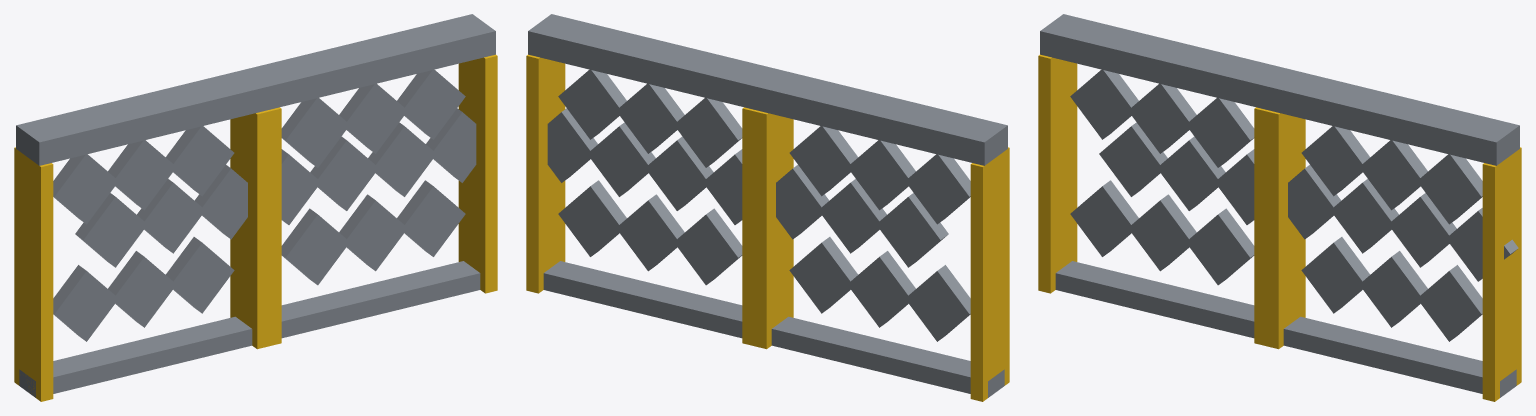
Rendered from env_r7_chain_link_fence.glb.
3 views of the same model, side by side, from view 1: azimuth 30°, elevation 25°; view 2: azimuth 150°, elevation 25°; view 3: azimuth 330°, elevation 25° (orthographic).
Parts seen in each view (by area): view 1: env_r7_chain_link_fence; view 2: env_r7_chain_link_fence; view 3: env_r7_chain_link_fence.
Part boxes in pixels (x1,y1,x2,y2): env_r7_chain_link_fence: [14, 14, 497, 401]; env_r7_chain_link_fence: [526, 14, 1009, 401]; env_r7_chain_link_fence: [1038, 14, 1521, 401].
Bounding box in the file's own units: 3 × 1.6 × 0.3.
1 material, 1 textured.
